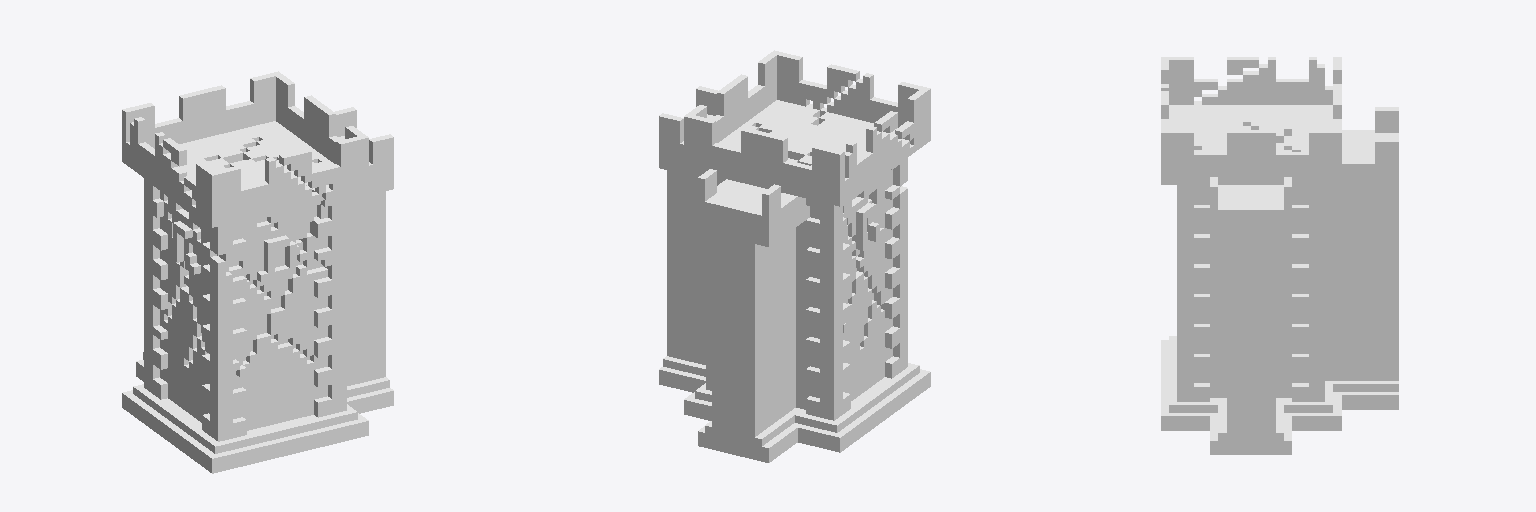
File: Tower1Hit.obj
3 renders of one model, left to right at view 1: azimuth 30°, elevation 25°; view 2: azimuth 150°, elevation 25°; view 3: azimuth 270°, elevation 25°, orthographic.
Parts seen in each view (by area): view 1: object 1; view 2: object 1; view 3: object 1.
Boxes of the visible parts, box(x1,y1,x2,y2) form: object 1: box(122, 71, 393, 473); object 1: box(659, 50, 930, 462); object 1: box(1161, 57, 1398, 454).
Size of the model in its own units: 2.9 by 4 by 2.9.